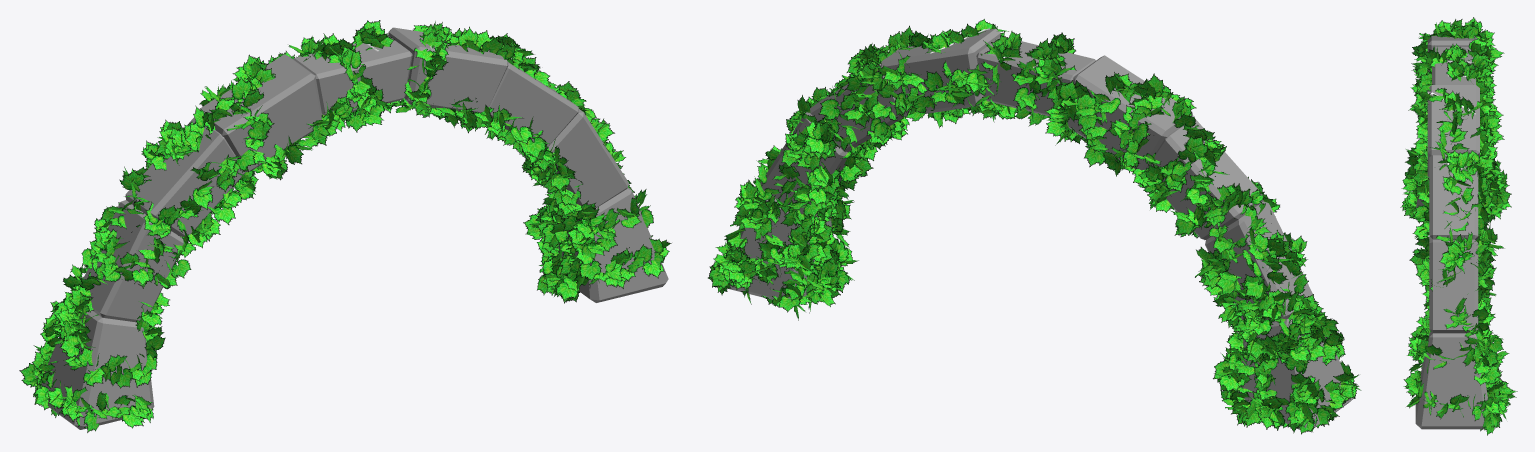
Rendered from StoneArch.fbx.
The picture shows the model from 3 angles, left to right: view 1: azimuth 30°, elevation 25°; view 2: azimuth 150°, elevation 25°; view 3: azimuth 270°, elevation 25°; orthographic projection. The views are drawn at different scales.
Visible parts, largest first — view 1: stonearchvines, stonearch; view 2: stonearchvines, stonearch; view 3: stonearchvines, stonearch.
Boxes of the visible parts, bbox=[...] form: stonearchvines: bbox=[19, 20, 671, 432]; stonearch: bbox=[35, 27, 668, 429]; stonearchvines: bbox=[708, 19, 1361, 434]; stonearch: bbox=[728, 28, 1353, 431]; stonearchvines: bbox=[1400, 17, 1517, 435]; stonearch: bbox=[1415, 34, 1491, 429].
Size of what is drawn, in the model's own units: 144 by 29.47 by 73.17.
